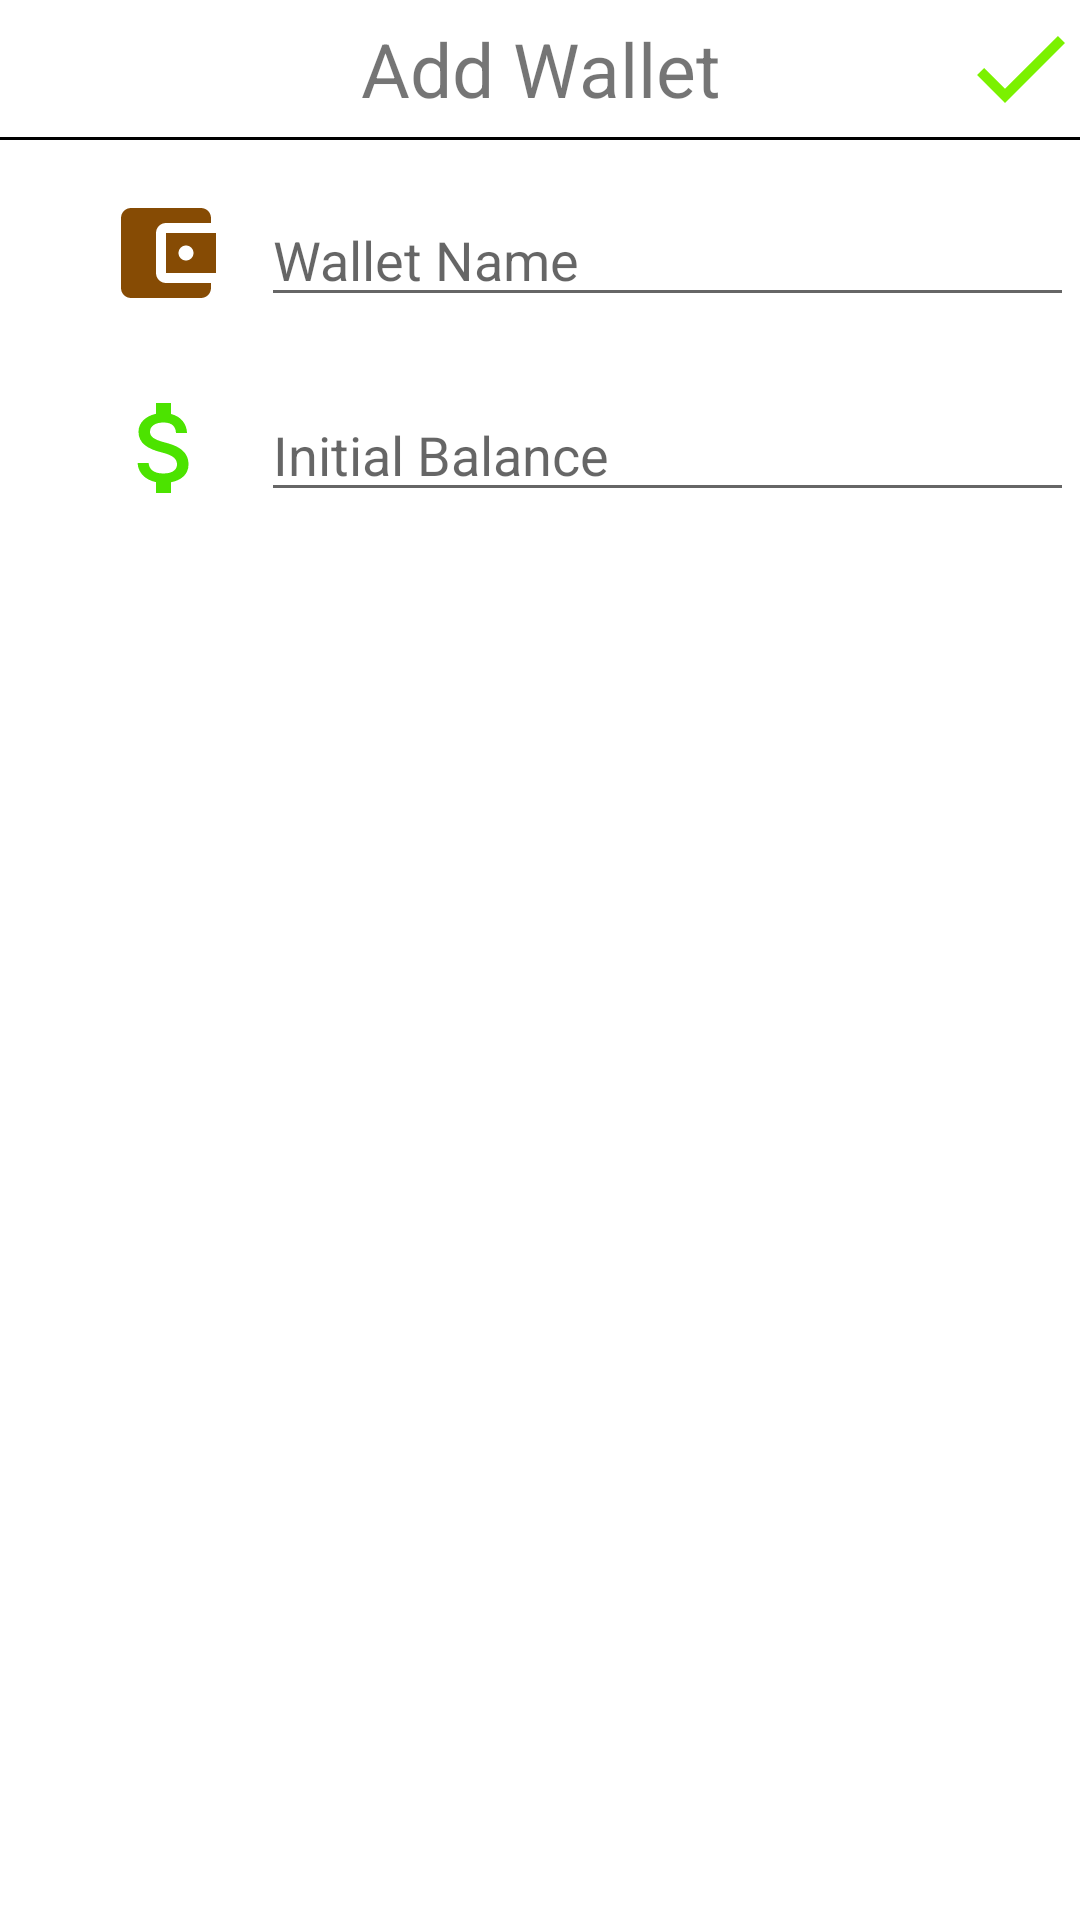

Icons on this 1080×1920 Android screen, each with its box as bbox=(x1, y1, x2, y2):
attach money: bbox=(137, 403, 189, 493)
check: bbox=(977, 36, 1065, 103)
